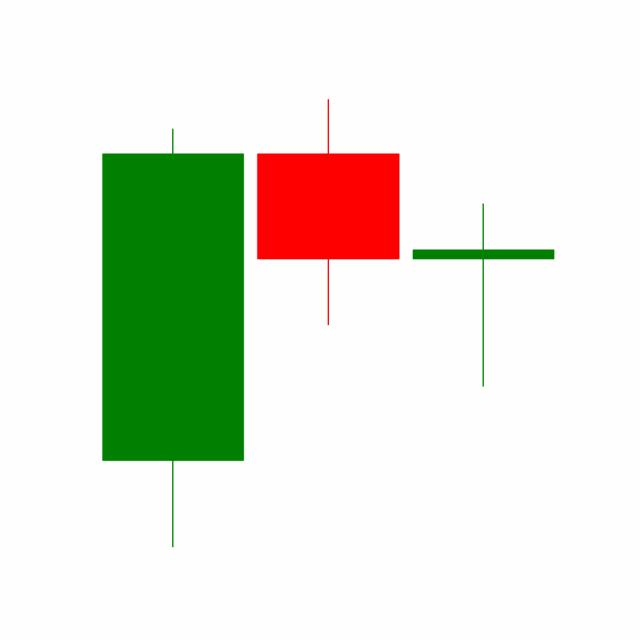Hammer: (405, 200, 561, 388)
